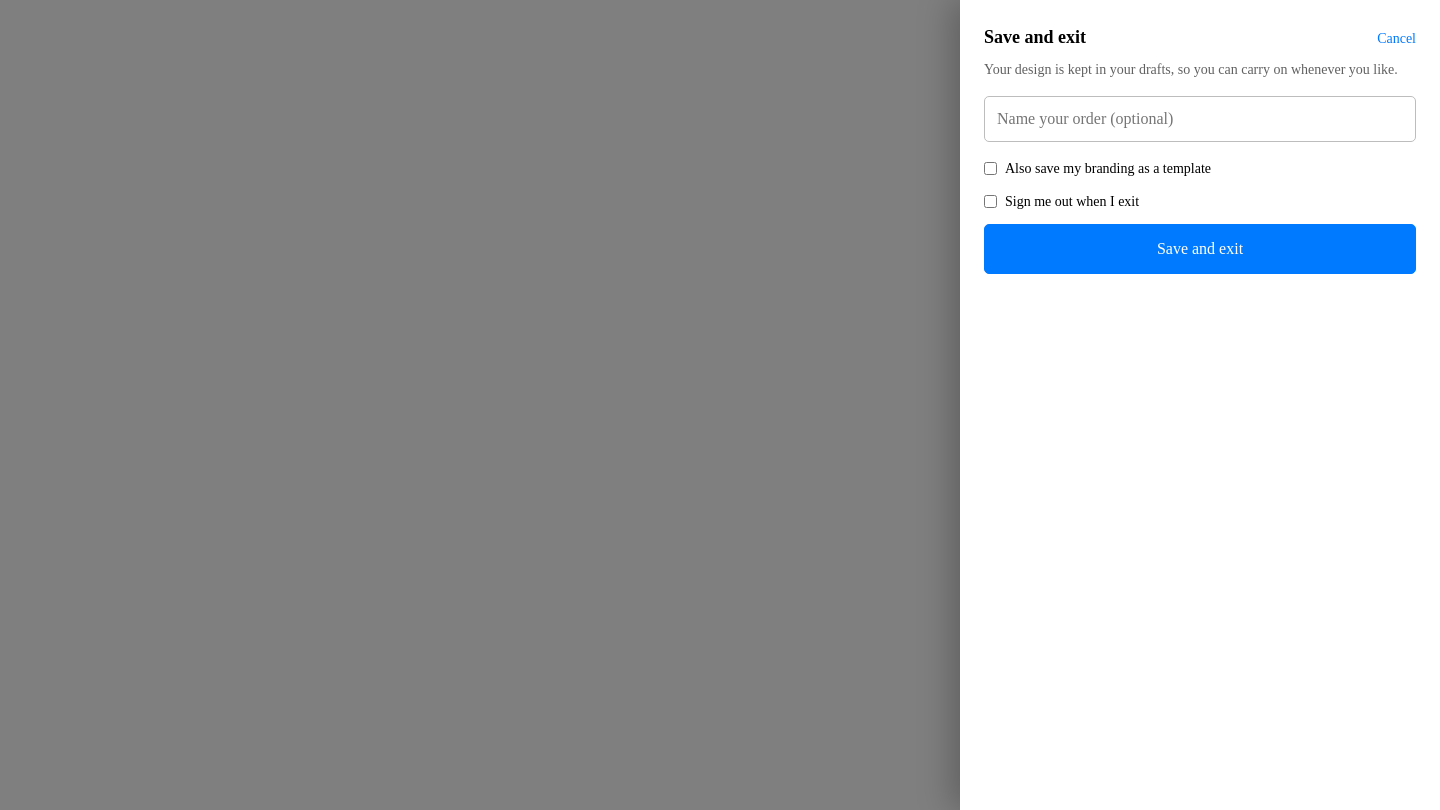
Test: SaveAndExitDialog › saving the branding as a template › stays open when the template can't be saved, and a retry saves it once
Later steps or results of the test are not shown.
Expected: the button "Save and exit" is enabled, [984,224,1416,274]
Click the checkbox labelled "Also save my branding as a template" at (990, 168), box [984,162,997,175]
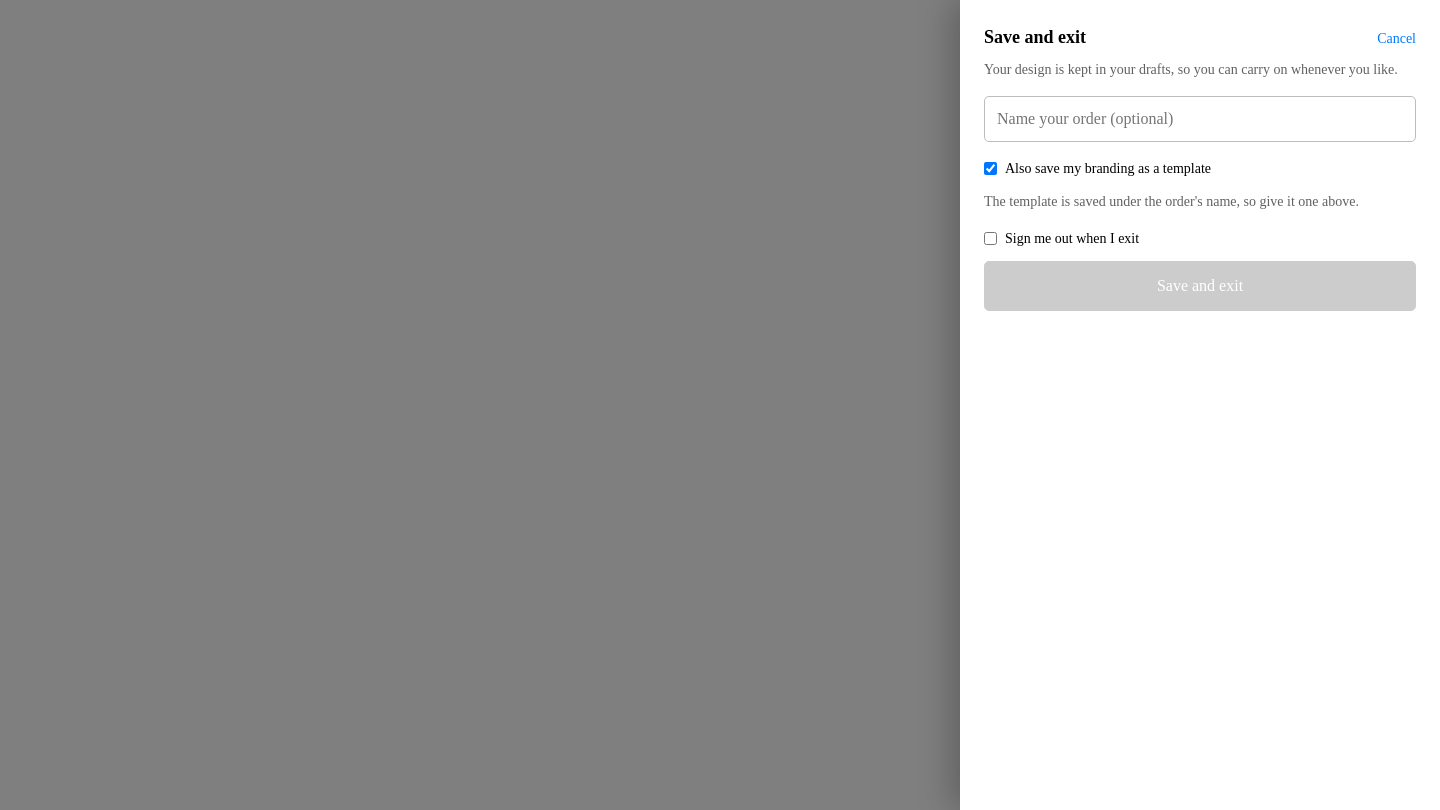
Type "Company branding" into the field named "order name" at (1200, 119), box [984,96,1416,142]
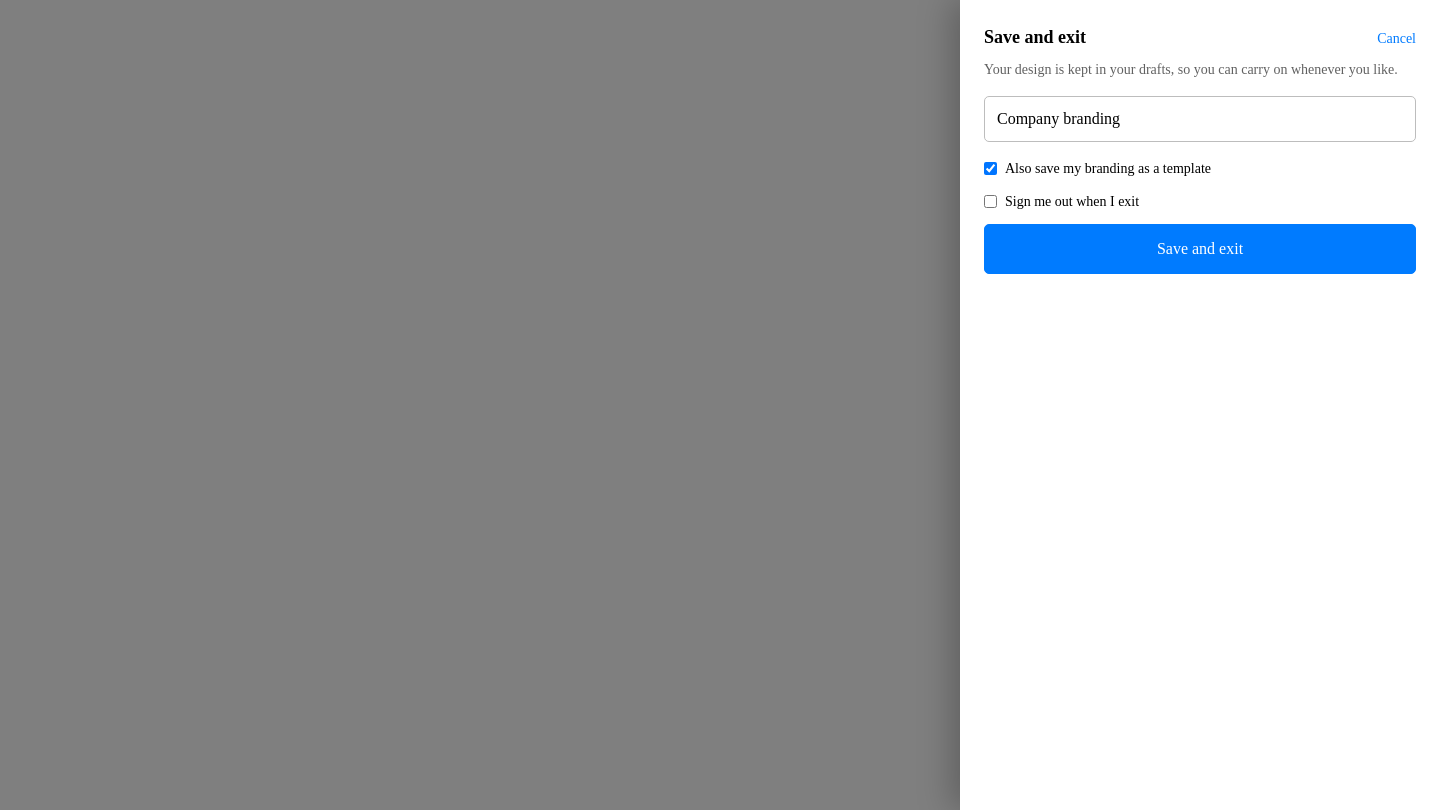
Click the button "Save and exit" at (1200, 249), box [984,224,1416,274]
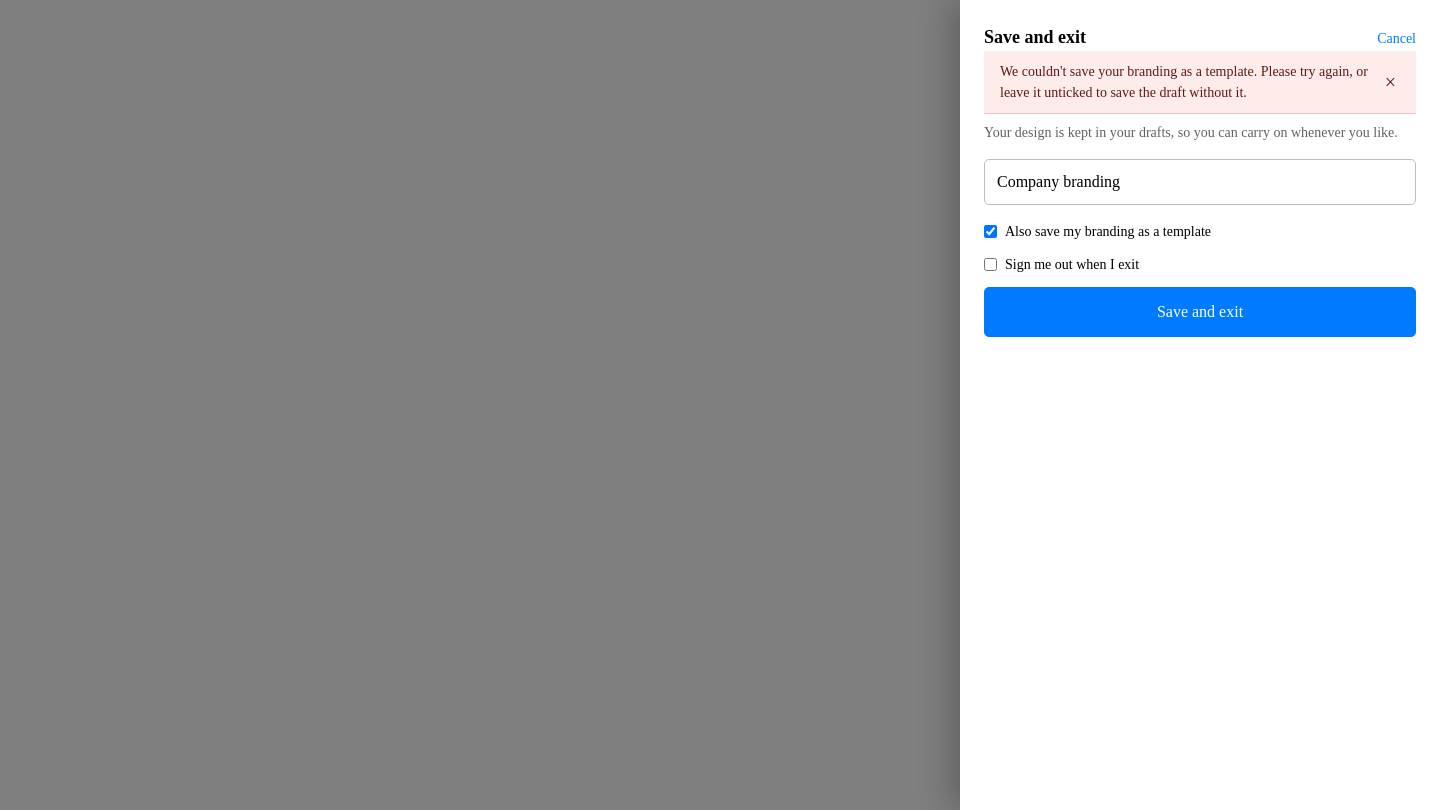
Now the text "couldn't save your branding as a template" is shown, box [1000,64,1368,100]
